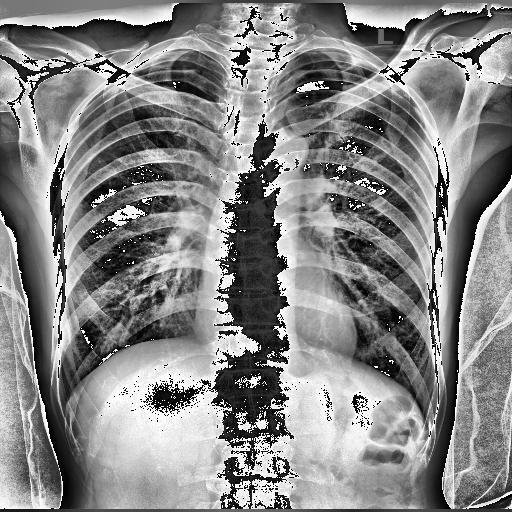11- Pleural thickening: (349, 50, 383, 72), (343, 48, 373, 68)
13- Pulmonary fibrosis: (342, 58, 358, 73)
